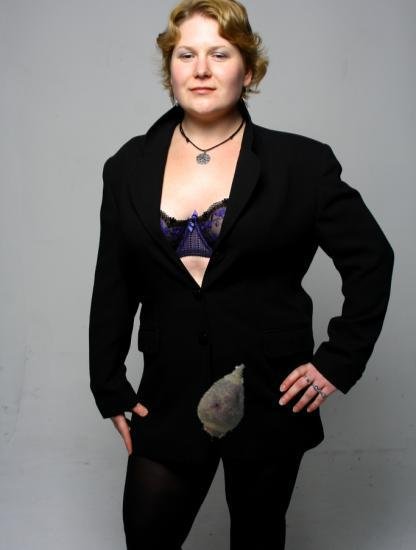Beetroot: (182, 358, 268, 444)
